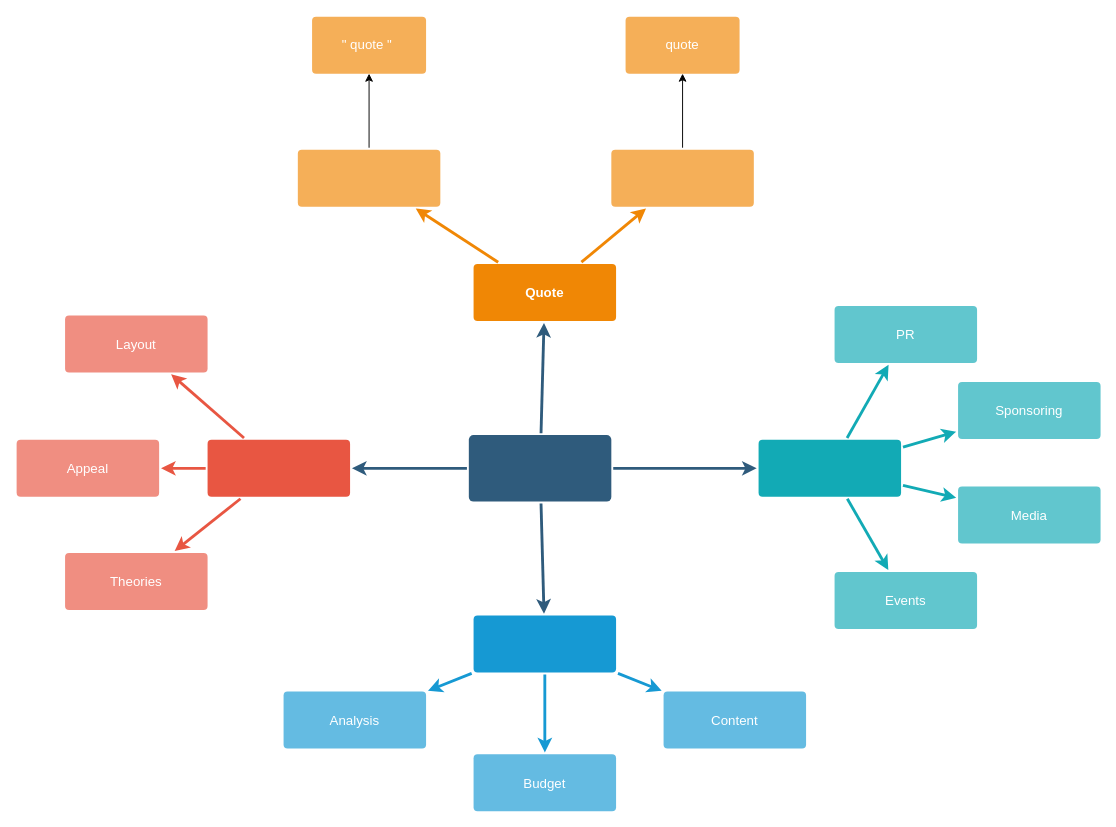
This 1116x827 diagram has some shape labels left out. The centre of each missing label's shape, as x and y in pixels:
"Alt + Q" belongs at pixel 368 177.
"Bold" belongs at pixel 829 467.
"Ctl + Q" belongs at pixel 682 177.
"Embassy" belongs at pixel 278 467.
"Organization" belongs at pixel 544 643.
"Steam writing assistant" belongs at pixel 539 468.
